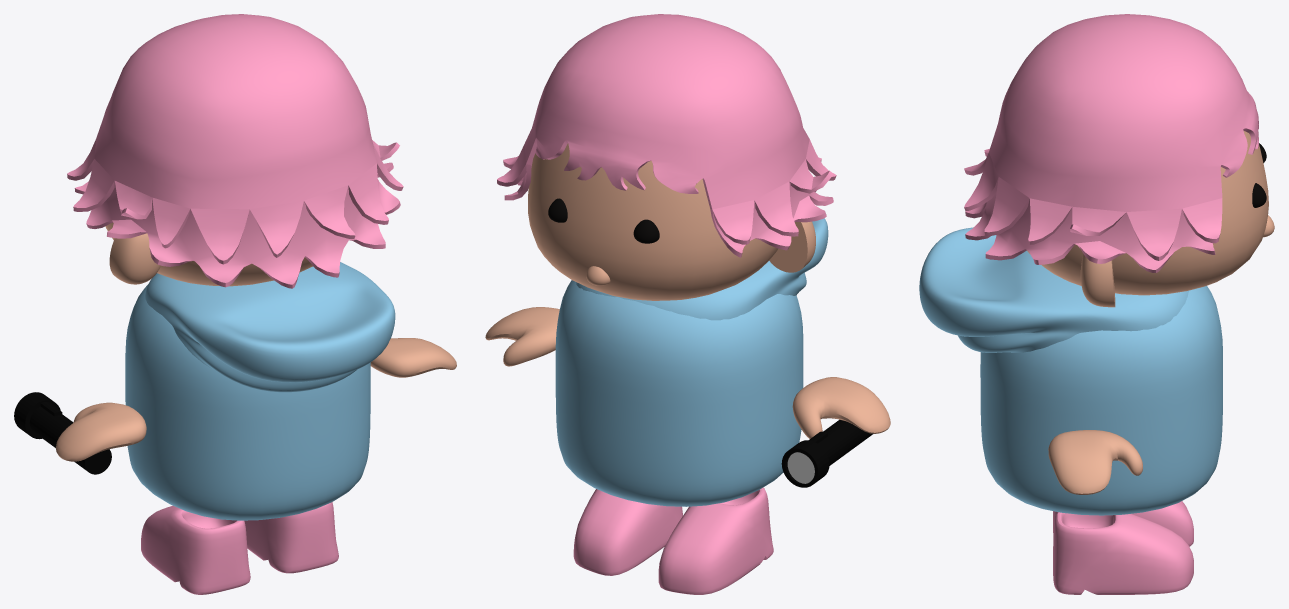
File: Character.fbx
The picture shows the model from 3 angles, left to right: view 1: azimuth 30°, elevation 25°; view 2: azimuth 150°, elevation 25°; view 3: azimuth 270°, elevation 25°; orthographic projection.
Parts seen in each view (by area): view 1: Hair_GEO, Torso_GEO, TorsoHood_GEO, LeftShoe, RightShoe, LeftHand, Lampara, RighHand, Ears_GEO, Head_GEO; view 2: Hair_GEO, Torso_GEO, Head_GEO, LeftShoe, RightShoe, TorsoHood_GEO, LeftHand, Lampara, RighHand, Ears_GEO; view 3: Hair_GEO, Torso_GEO, TorsoHood_GEO, RightShoe, Head_GEO, RighHand, Ears_GEO, LeftShoe.
Part boxes in pixels (box(x1,y1,x2,y2)): Hair_GEO: box(67, 14, 403, 288); Torso_GEO: box(125, 285, 370, 520); TorsoHood_GEO: box(145, 262, 395, 392); LeftShoe: box(141, 505, 250, 594); RightShoe: box(244, 502, 338, 573); LeftHand: box(56, 402, 146, 461); Lampara: box(14, 392, 111, 474); RighHand: box(370, 338, 456, 377); Ears_GEO: box(109, 233, 160, 284); Head_GEO: box(105, 222, 312, 286); Hair_GEO: box(497, 14, 836, 257); Torso_GEO: box(555, 280, 803, 506); Head_GEO: box(528, 143, 777, 300); LeftShoe: box(658, 487, 773, 594); RightShoe: box(573, 489, 682, 575); TorsoHood_GEO: box(576, 218, 828, 320); LeftHand: box(792, 377, 890, 438); Lampara: box(781, 419, 872, 487); RighHand: box(485, 307, 559, 366); Ears_GEO: box(769, 221, 815, 272); Hair_GEO: box(964, 14, 1258, 272); Torso_GEO: box(980, 286, 1222, 515); TorsoHood_GEO: box(919, 227, 1188, 352); RightShoe: box(1053, 512, 1193, 594); Head_GEO: box(1027, 131, 1268, 295); RighHand: box(1048, 430, 1142, 494); Ears_GEO: box(1080, 254, 1115, 307); LeftShoe: box(1053, 501, 1193, 546).
Size of the model in its own units: 181 by 230 by 140.
